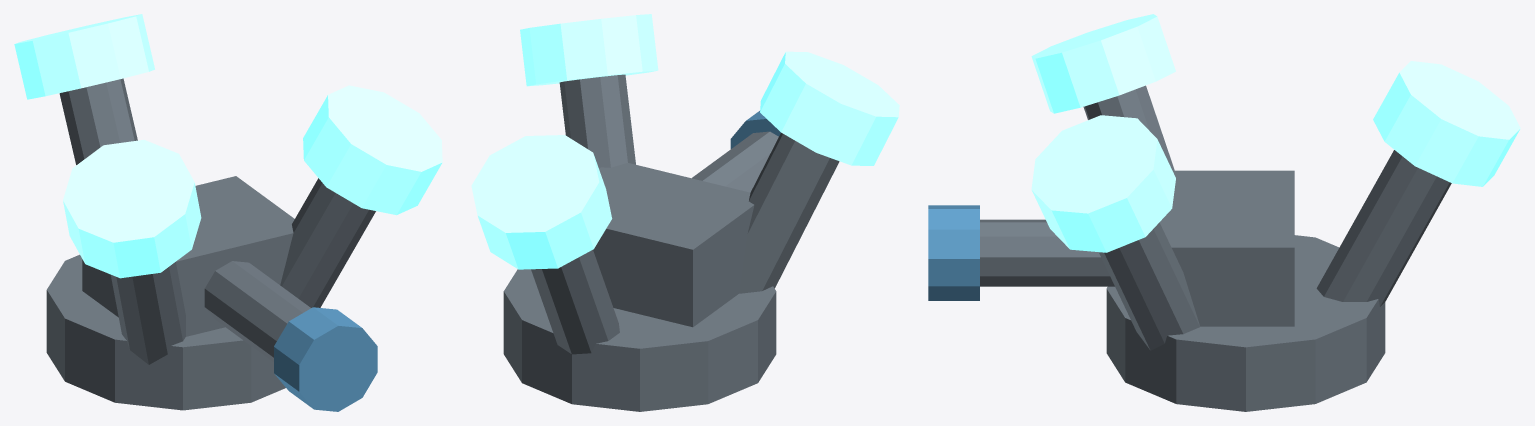
Rendered from tower_interceptor.glb.
The picture shows the model from 3 angles, left to right: view 1: azimuth 30°, elevation 25°; view 2: azimuth 150°, elevation 25°; view 3: azimuth 270°, elevation 25°; orthographic projection. The views are drawn at different scales.
Parts seen in each view (by area): view 1: GEO_TurretHub, GEO_InterceptPlate_A, GEO_InterceptPlate_B, GEO_CounterMount, GEO_CounterMuzzle, GEO_InterceptPlate_C, GEO_InterceptArm_B, GEO_CounterBarrel, GEO_InterceptArm_A, GEO_InterceptArm_C; view 2: GEO_TurretHub, GEO_CounterMount, GEO_InterceptPlate_C, GEO_InterceptPlate_A, GEO_InterceptArm_A, GEO_InterceptPlate_B, GEO_InterceptArm_C, GEO_InterceptArm_B, GEO_CounterBarrel, GEO_CounterMuzzle; view 3: GEO_TurretHub, GEO_CounterMount, GEO_InterceptPlate_B, GEO_InterceptPlate_C, GEO_InterceptArm_C, GEO_InterceptPlate_A, GEO_CounterBarrel, GEO_InterceptArm_B, GEO_CounterMuzzle, GEO_InterceptArm_A.
Boxes of the visible parts, x1,y1,x2,y2 form: GEO_TurretHub: [46, 254, 285, 410]; GEO_InterceptPlate_A: [63, 139, 201, 278]; GEO_InterceptPlate_B: [303, 85, 442, 215]; GEO_CounterMount: [82, 176, 294, 336]; GEO_CounterMuzzle: [274, 307, 377, 411]; GEO_InterceptPlate_C: [14, 14, 154, 99]; GEO_InterceptArm_B: [280, 178, 375, 307]; GEO_CounterBarrel: [204, 261, 310, 362]; GEO_InterceptArm_A: [111, 262, 185, 364]; GEO_InterceptArm_C: [59, 78, 137, 164]; GEO_TurretHub: [503, 269, 776, 411]; GEO_CounterMount: [593, 163, 754, 327]; GEO_InterceptPlate_C: [471, 135, 612, 269]; GEO_InterceptPlate_A: [760, 51, 899, 165]; GEO_InterceptArm_A: [739, 132, 839, 293]; GEO_InterceptPlate_B: [520, 14, 658, 86]; GEO_InterceptArm_C: [531, 250, 619, 354]; GEO_InterceptArm_B: [559, 74, 635, 168]; GEO_CounterBarrel: [692, 131, 778, 192]; GEO_CounterMuzzle: [730, 111, 780, 148]; GEO_TurretHub: [1106, 235, 1385, 411]; GEO_CounterMount: [1159, 170, 1294, 326]; GEO_InterceptPlate_B: [1031, 115, 1175, 252]; GEO_InterceptPlate_C: [1373, 61, 1520, 186]; GEO_InterceptArm_C: [1316, 150, 1451, 306]; GEO_InterceptPlate_A: [1031, 14, 1175, 113]; GEO_CounterBarrel: [980, 219, 1114, 286]; GEO_InterceptArm_B: [1099, 222, 1200, 350]; GEO_CounterMuzzle: [928, 205, 979, 300]; GEO_InterceptArm_A: [1083, 85, 1174, 170].
Size of the model in its own units: 1.32 by 0.9553 by 1.83.
